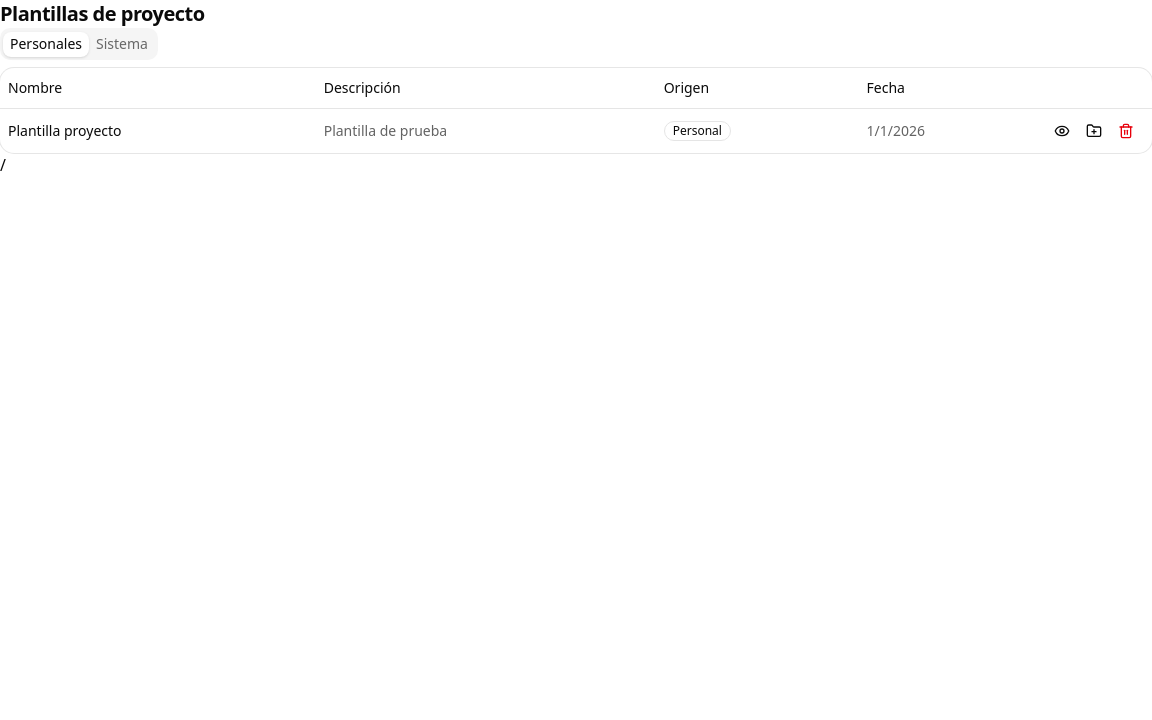
Test case: PlantillasProyectoPage › crea un proyecto desde la plantilla y navega al proyecto creado
expect the text "Plantilla proyecto" is shown: met, box [0, 108, 316, 152]
Click the button titled "Crear proyecto desde esta plantilla" at (1094, 130), box [1080, 116, 1108, 144]
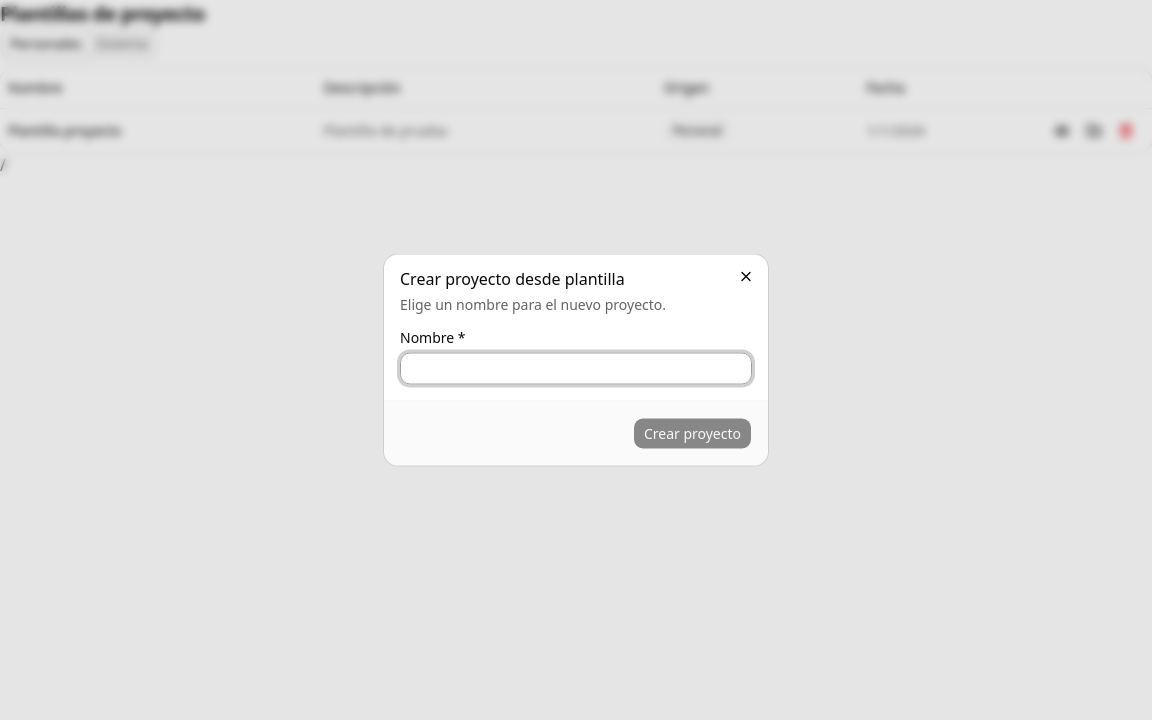
Type "Proyecto nuevo" into the field labelled "Nombre *" at (576, 368), box [400, 352, 752, 384]
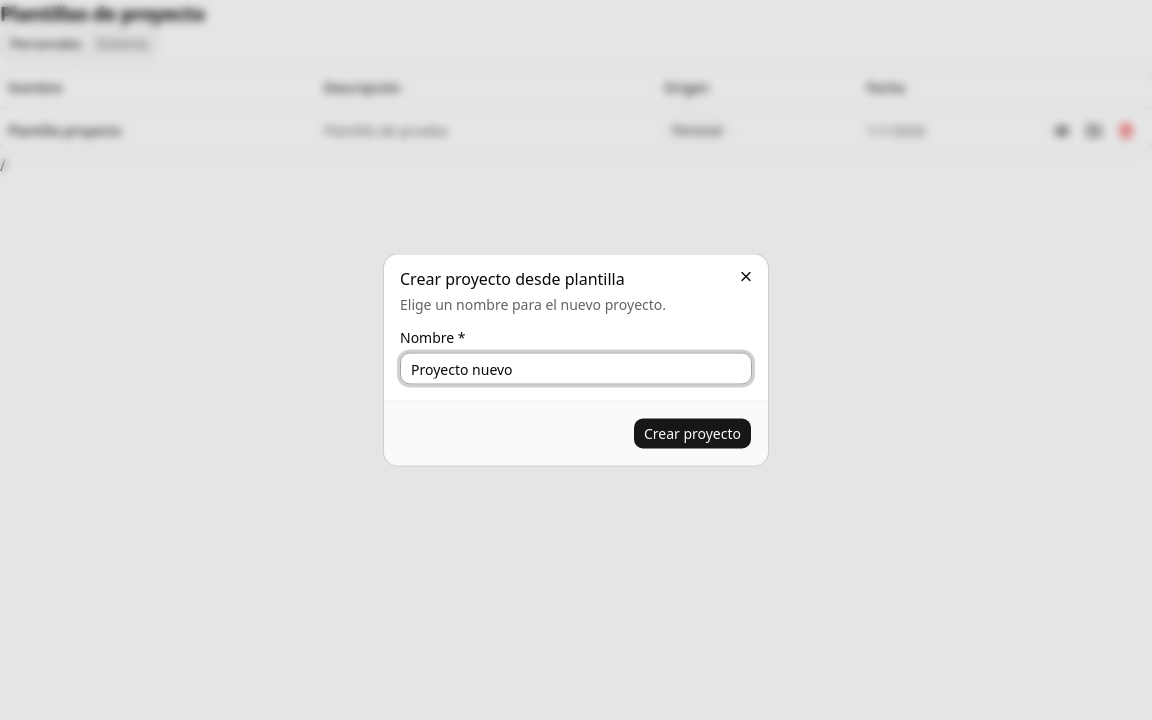
Click the button "Crear proyecto" at (692, 434), box [633, 418, 752, 450]
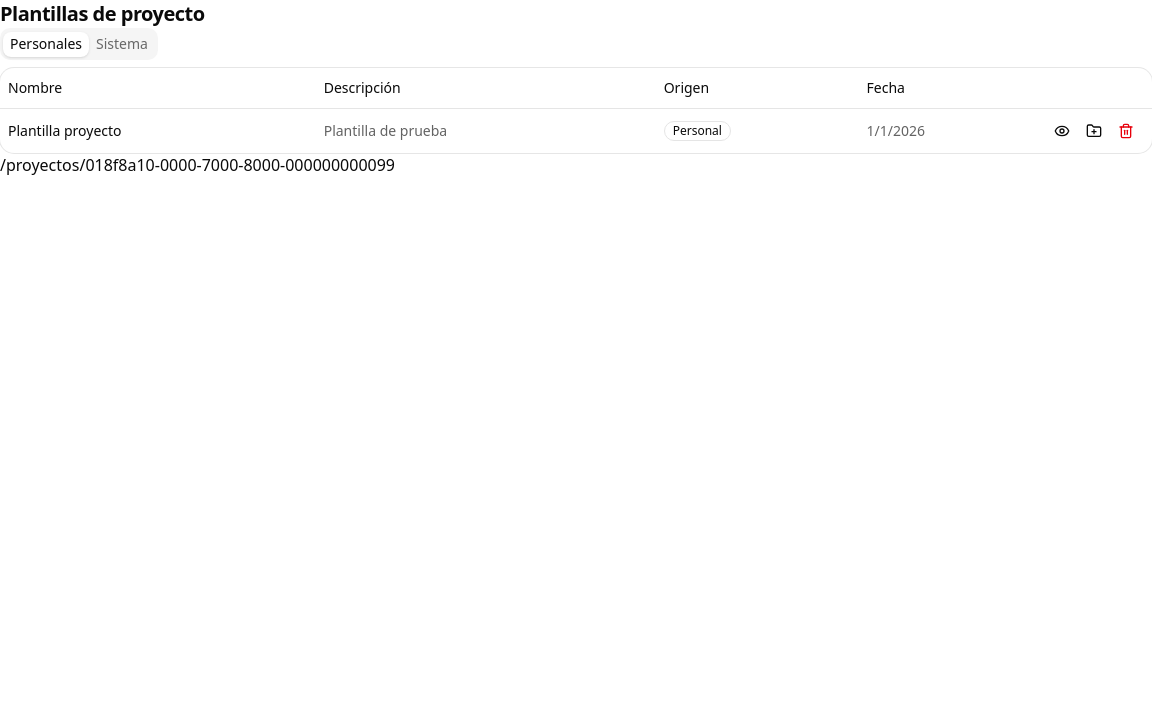
expect the heading "Crear proyecto desde plantilla" is gone: met
